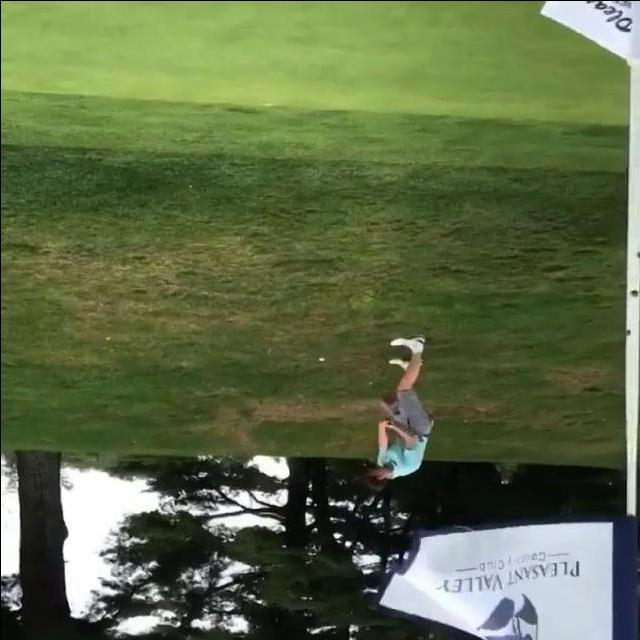ClubHandle: (387, 421, 423, 442)
ClubHead: (417, 433, 423, 441)
GolfBall: (317, 357, 324, 361)
